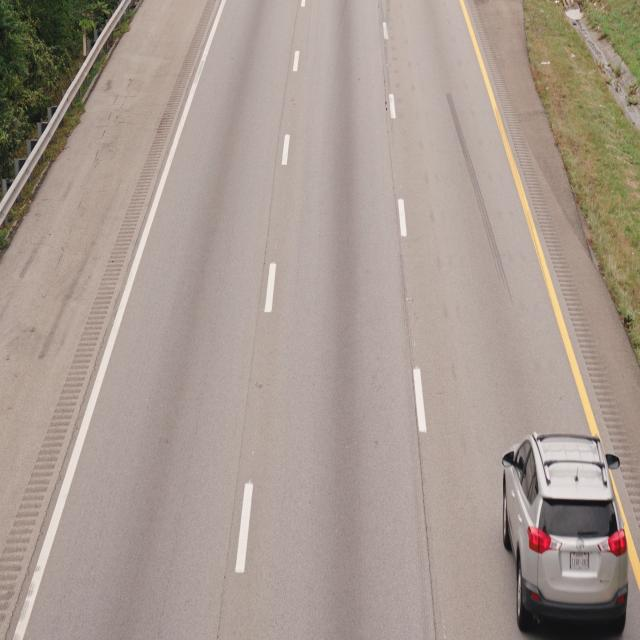Vehicle: (501, 428, 631, 640)
